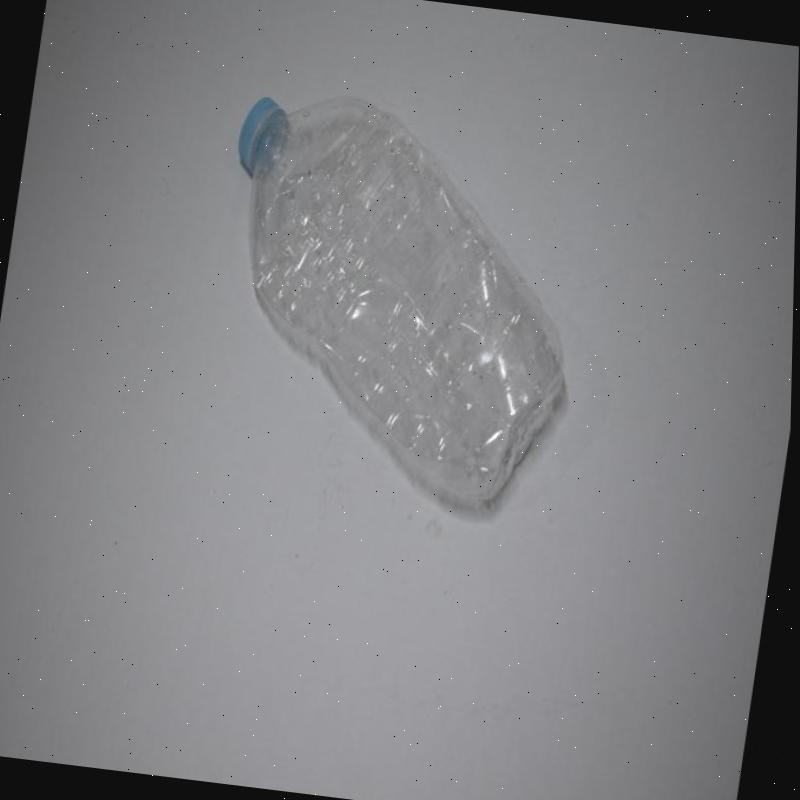botella: (191, 92, 602, 519)
